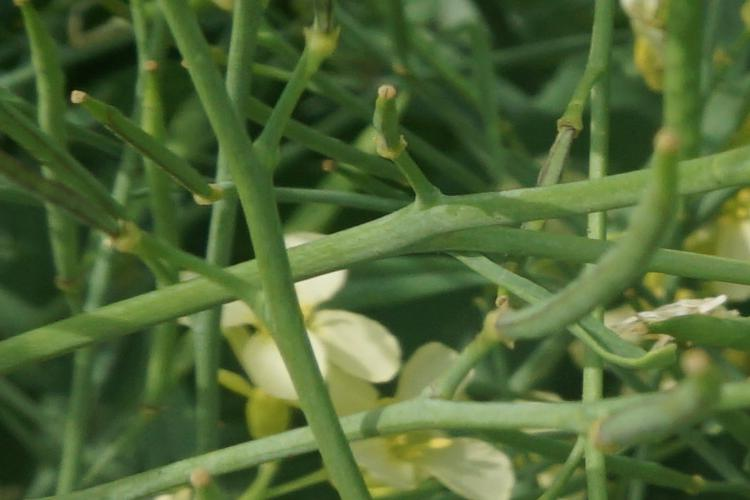pod: (523, 121, 695, 368), (52, 96, 240, 228), (371, 71, 462, 203)
